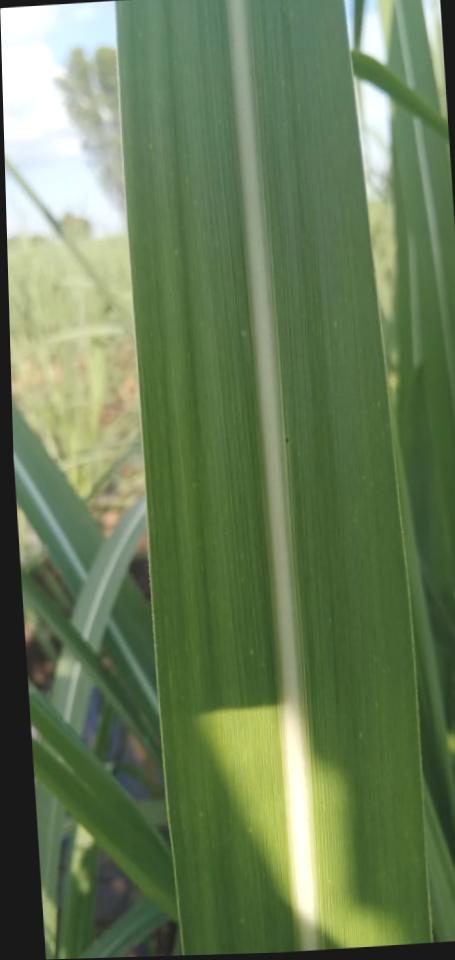Healthy: (115, 0, 430, 955), (12, 404, 104, 596), (72, 496, 144, 648), (73, 503, 143, 646), (101, 571, 160, 719), (51, 647, 92, 730)
